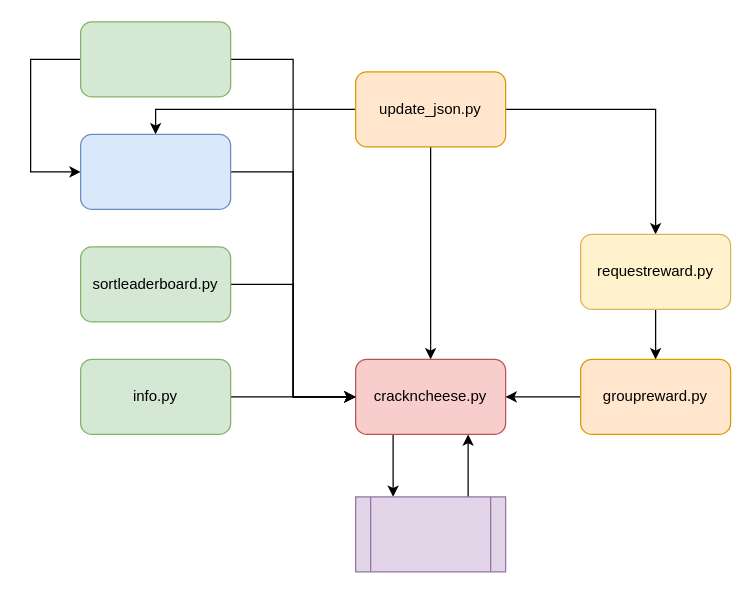
Image size: 753x594. Some labels were removed from this diagram. The shapes that lost their labels are listed below. From the top down, each one's centre as x and y in pixels, then its label:
At point 155,59: "checkrank.py".
At point 155,171: "tkleaderboard.py".
At point 430,534: "Twitch Servers".
